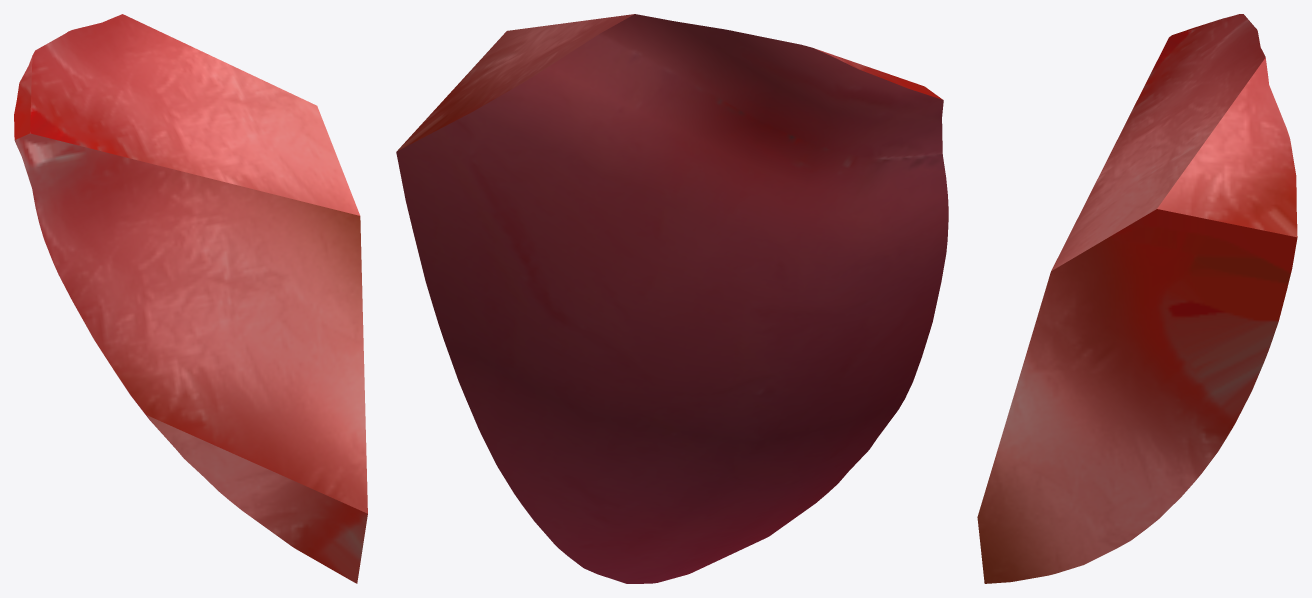
The model's file is SM_HeartPiece_15_.FBX.
3 views of the same model, side by side, from view 1: azimuth 30°, elevation 25°; view 2: azimuth 150°, elevation 25°; view 3: azimuth 270°, elevation 25° (orthographic). The views are drawn at different scales.
Visible parts, largest first — view 1: SM_HeartPiece_15_; view 2: SM_HeartPiece_15_; view 3: SM_HeartPiece_15_.
Part boxes in pixels (x1=…): SM_HeartPiece_15_: x1=14, y1=14, x2=367, y2=583; SM_HeartPiece_15_: x1=396, y1=14, x2=948, y2=583; SM_HeartPiece_15_: x1=977, y1=14, x2=1297, y2=583.
Bounding box in the file's own units: 205 × 194 × 323.
